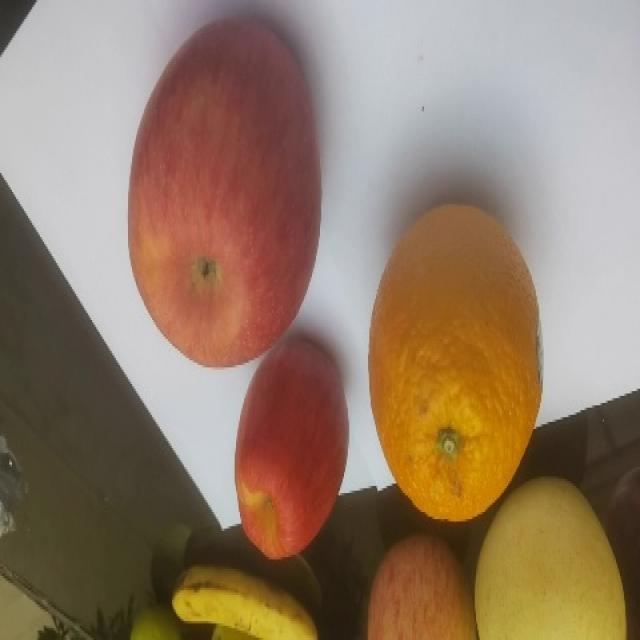Apple: (126, 15, 322, 368), (233, 336, 349, 560), (366, 533, 477, 639)
Banana: (170, 563, 318, 639)
Orange: (367, 202, 542, 522)
